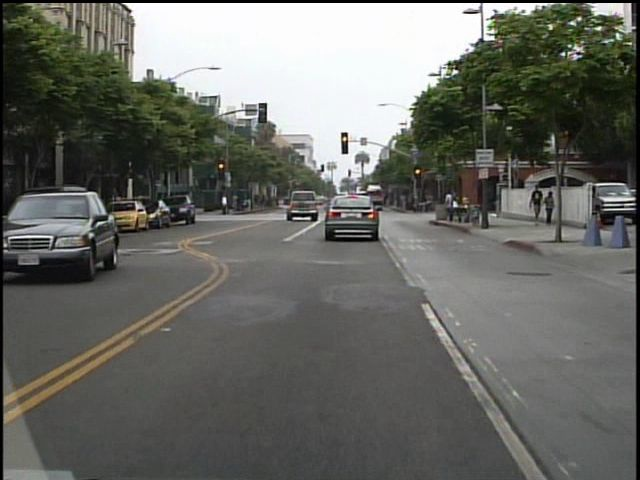person: (528, 182, 546, 226), (441, 188, 460, 225), (541, 188, 557, 228), (218, 191, 232, 219)
